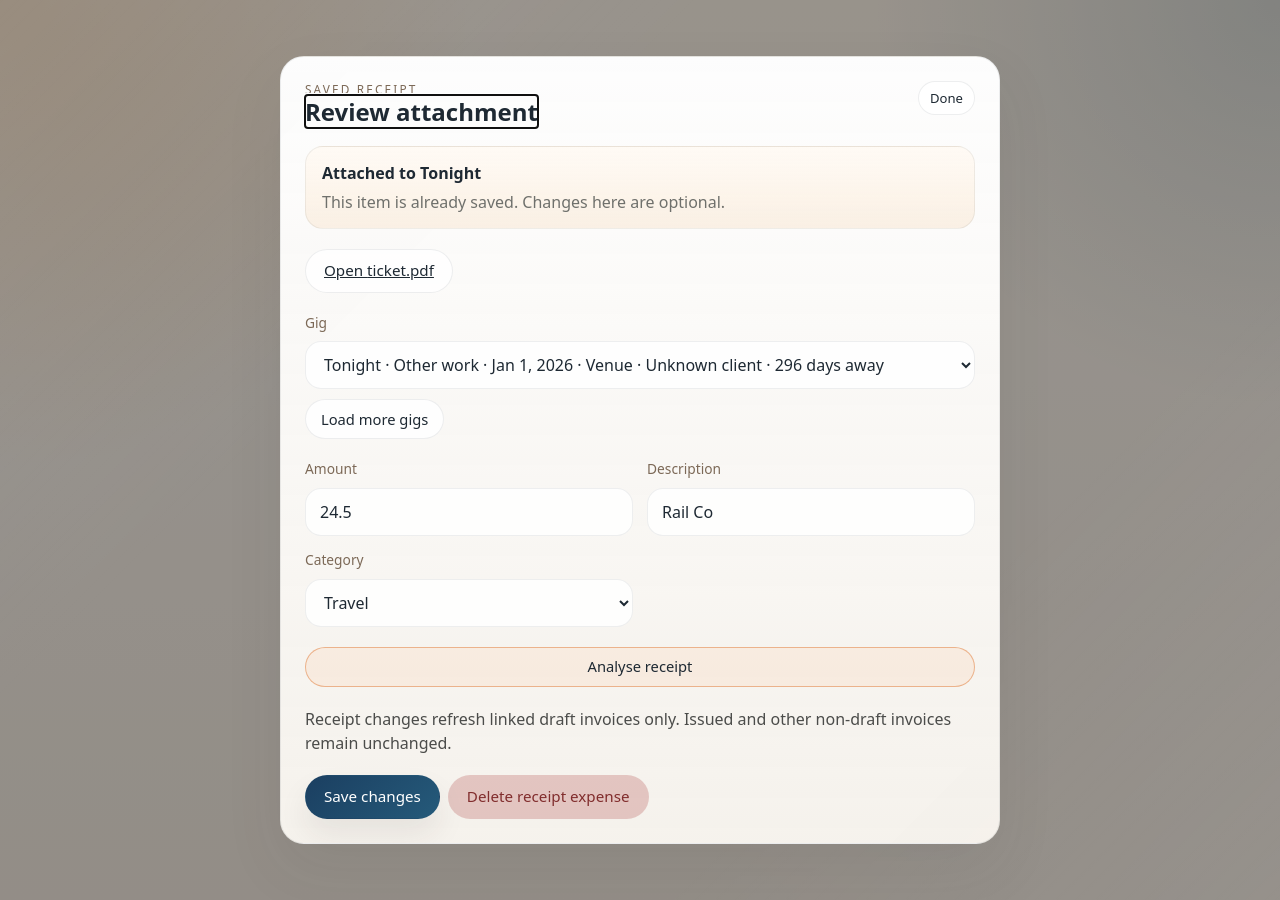
Scenario: Saved attachment review › keeps failed corrections open with inline feedback
This screenshot has width=1280, height=900.
Click the button "Save changes" at (372, 797), box x1=305 y1=775 x2=440 y2=819
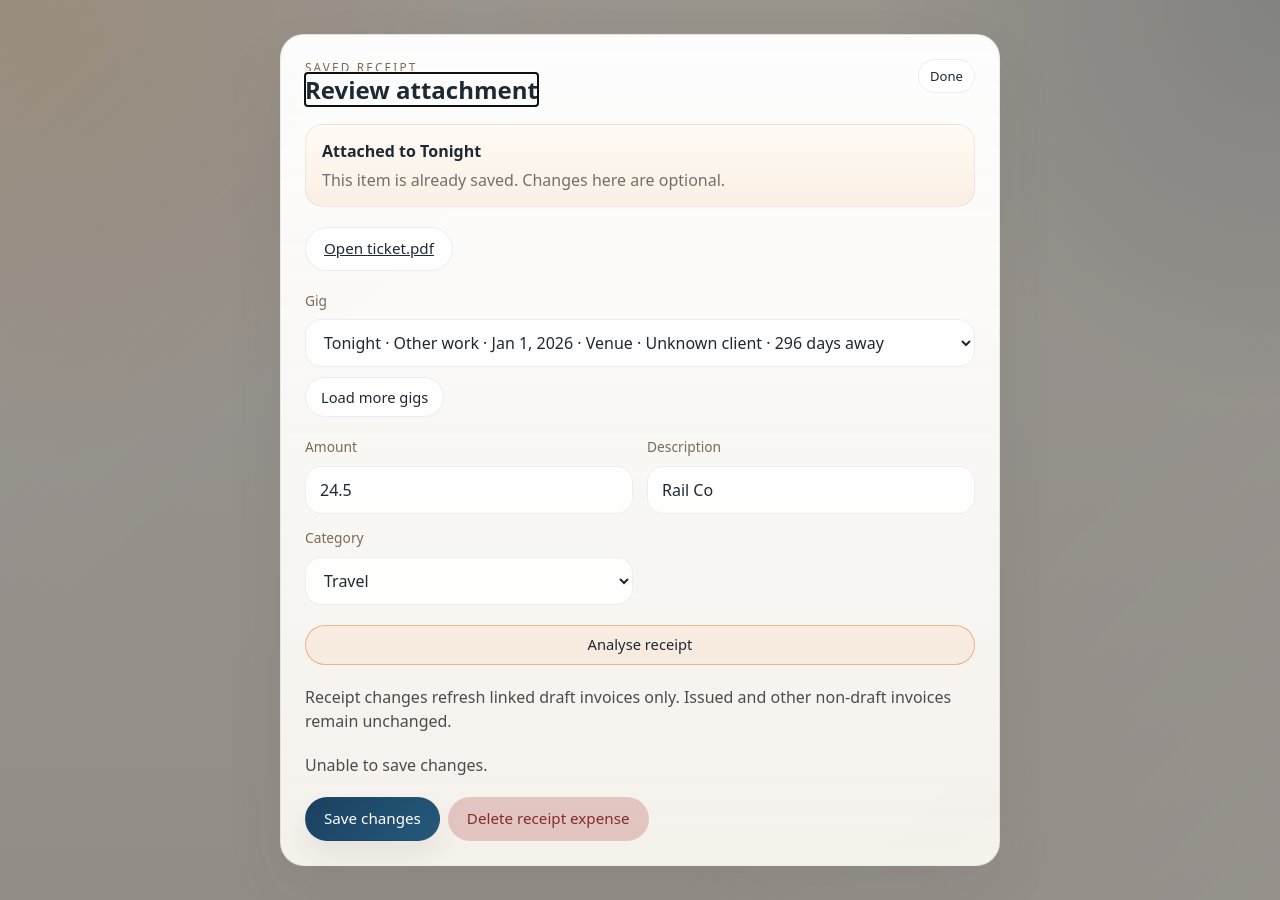
Expected: the dialog "Review attachment" is shown, x1=280 y1=34 x2=1000 y2=866
Expected: the text "Unable to save changes." is shown, x1=305 y1=754 x2=488 y2=776
